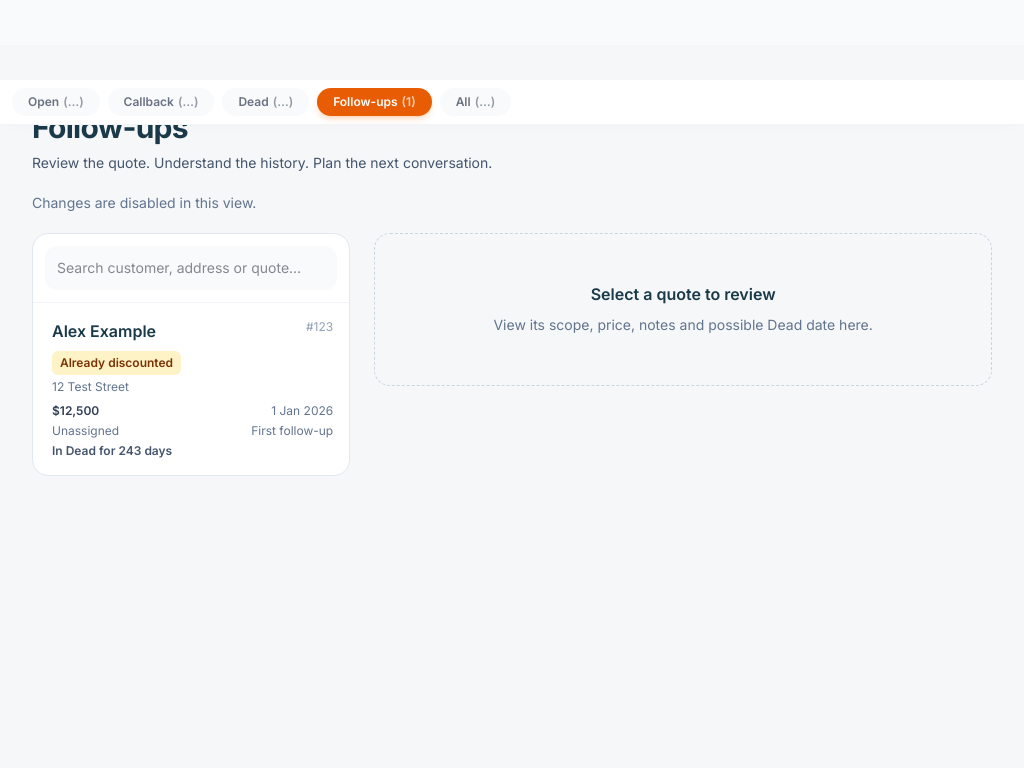
Test: flags negative extras and omits absent ceiling null
Click the button "Alex Example". click: (104, 331)
box: [33,303,349,475]
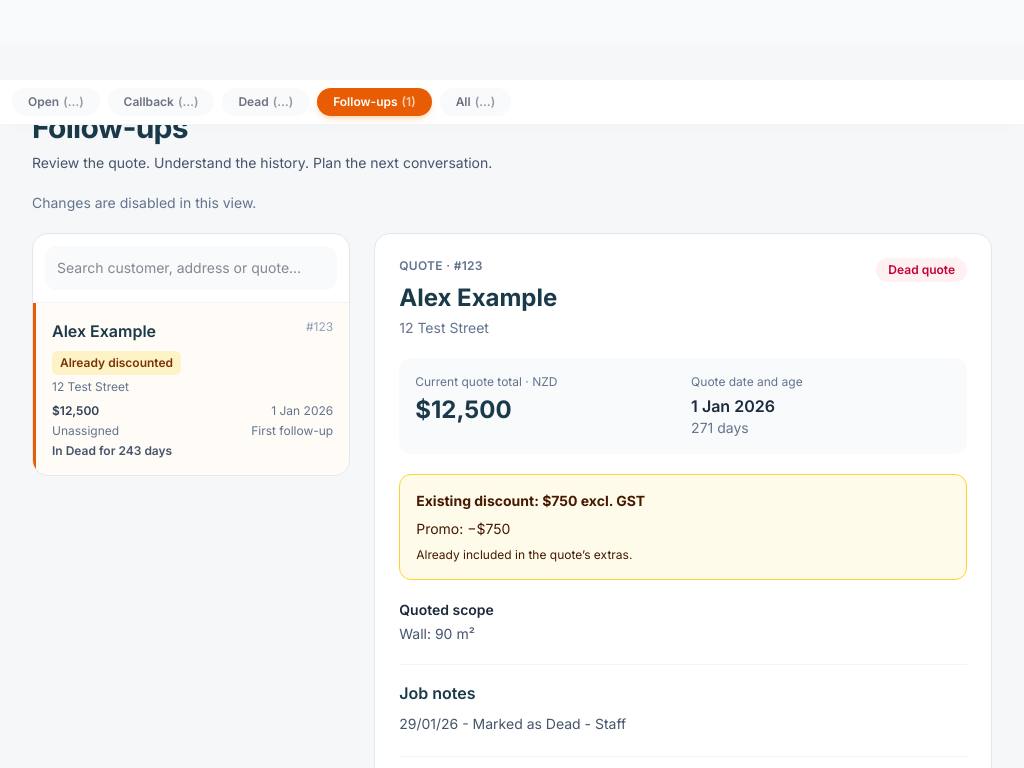
Expected: the text "Already discounted" is shown, [52,351,181,375]
Now the text "Existing discount: $750 excl. GST" is shown, box [416,492,645,509]
